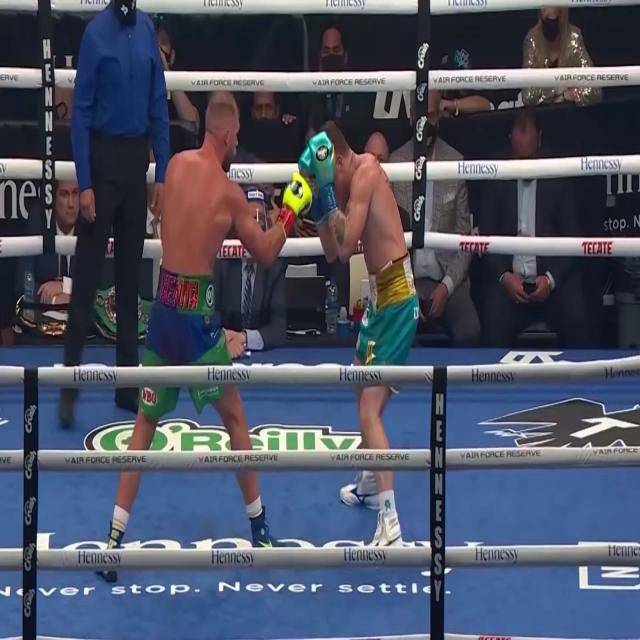boxer_1: (157, 89, 240, 315)
boxer_2: (322, 122, 417, 309)
gloves_1: (277, 171, 312, 235)
gloves_2: (298, 130, 338, 224)
